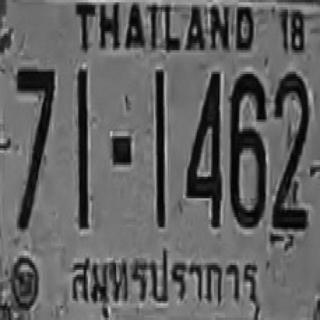N01: (76, 68, 87, 228), (155, 68, 165, 226)
N02: (272, 72, 310, 234)
N04: (185, 69, 221, 224)
N06: (229, 72, 265, 227)
N07: (15, 67, 55, 229)
P57: (67, 248, 256, 318)
